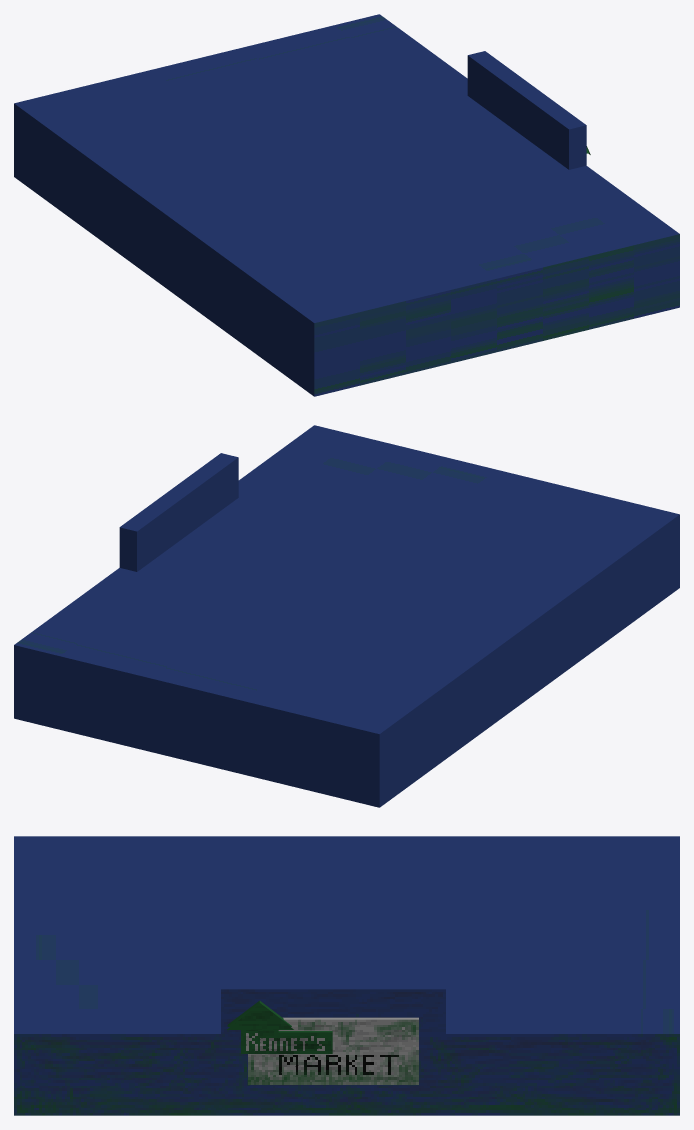
File: Upper_Market.gltf
3 renders of one model, top to bottom at view 1: azimuth 30°, elevation 25°; view 2: azimuth 150°, elevation 25°; view 3: azimuth 270°, elevation 25°, orthographic. The views are drawn at different scales.
Parts seen in each view (by area): view 1: Base (×2); view 2: Base (×2); view 3: Base (×2), cube, cuboid, pyramid.
Boxes of the visible parts, bbox=[...] form: Base (×2): bbox=[14, 14, 679, 396]; Base (×2): bbox=[14, 425, 679, 807]; Base (×2): bbox=[14, 836, 679, 1115]; cube: bbox=[248, 1017, 418, 1084]; cuboid: bbox=[227, 1000, 332, 1053]; pyramid: bbox=[227, 1003, 293, 1029].
Size of the model in its own units: 0.6619 by 0.1937 by 0.925.
Materials: 3 (3 with a texture image).
